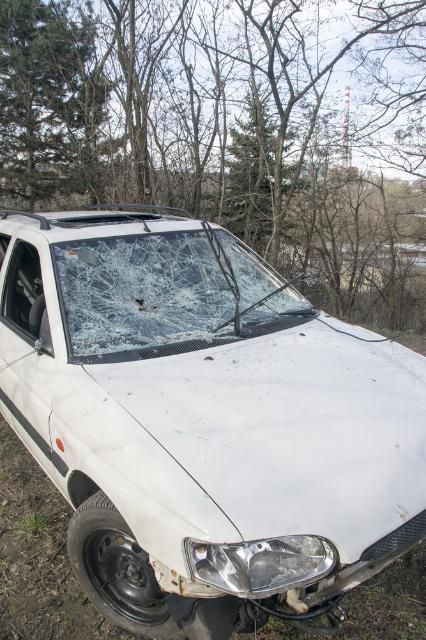crack: (48, 396, 54, 449)
glass shatter: (55, 230, 312, 357)
no part: (141, 532, 426, 640)
